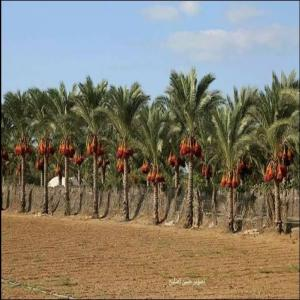palm tree: (157, 65, 223, 228), (248, 71, 298, 233), (206, 86, 258, 232), (104, 81, 149, 221), (71, 74, 111, 218), (130, 101, 172, 225), (48, 80, 81, 215), (1, 89, 36, 212), (26, 86, 56, 214)
